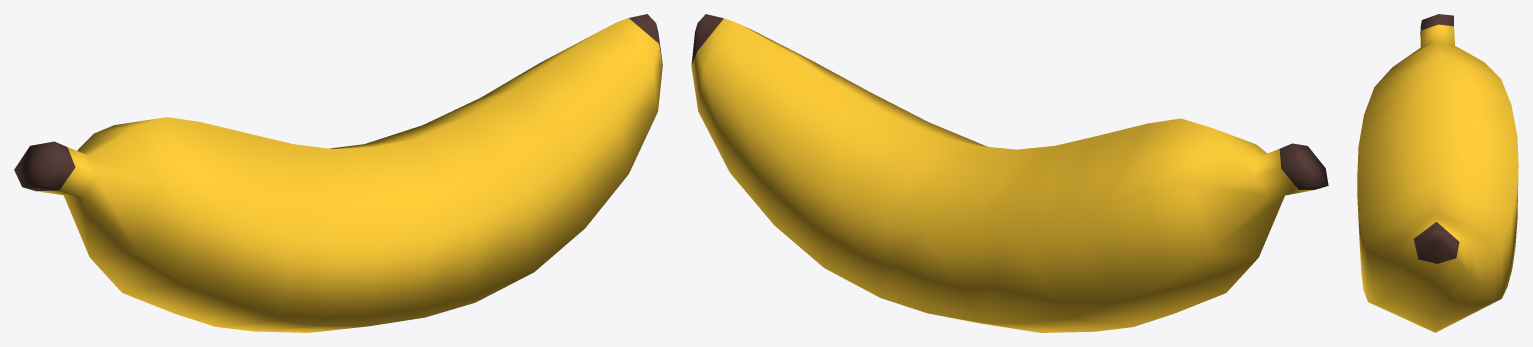
The model's file is banana.fbx.
3 renders of one model, left to right at view 1: azimuth 30°, elevation 25°; view 2: azimuth 150°, elevation 25°; view 3: azimuth 270°, elevation 25°, orthographic. The views are drawn at different scales.
Visible parts, largest first — view 1: banana; view 2: banana; view 3: banana.
Boxes of the visible parts, left/top/right/bottom form: banana: left=14, top=14, right=662, bottom=332; banana: left=691, top=14, right=1328, bottom=332; banana: left=1357, top=14, right=1518, bottom=332.
Bounding box in the file's own units: 452 × 177 × 142.
